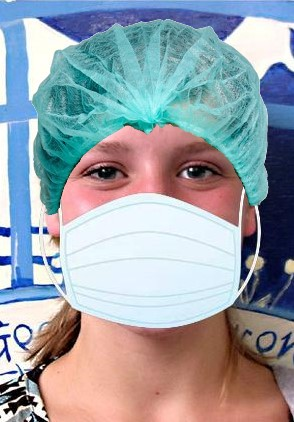with_mask_and_cap: (43, 23, 253, 330)
